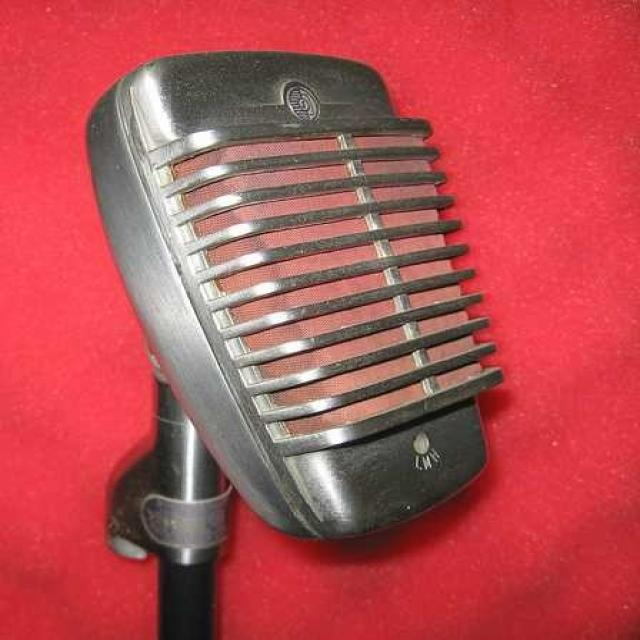microphone: (91, 49, 488, 635)
